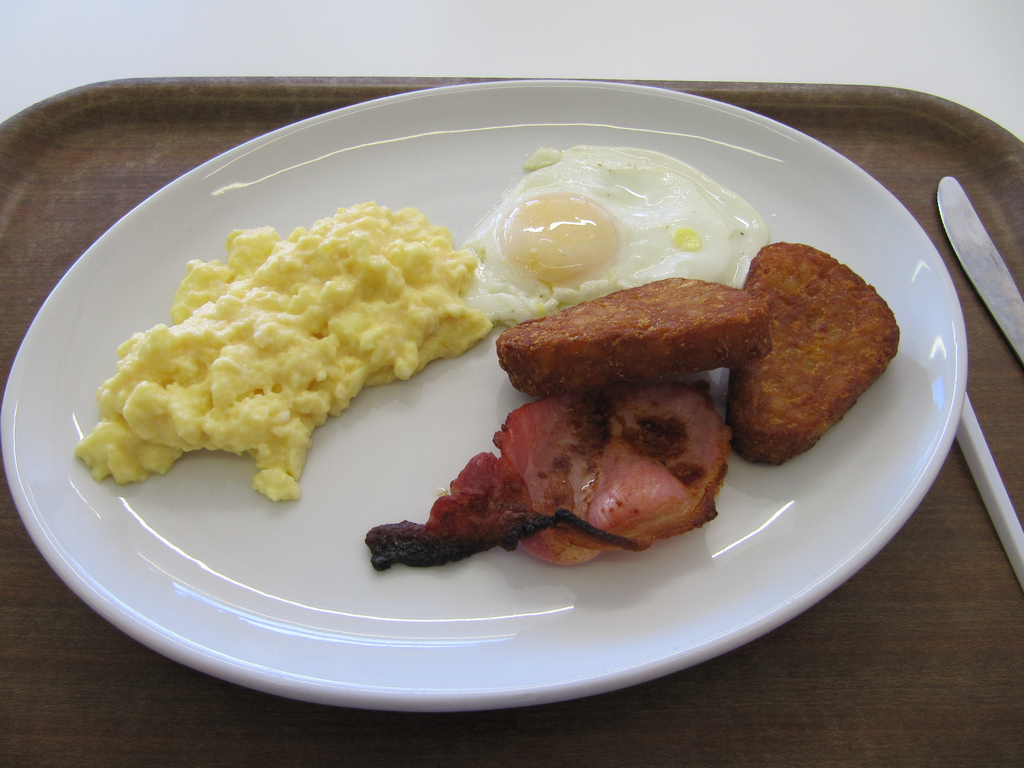fried egg: (155, 244, 440, 458), (479, 123, 757, 309)
